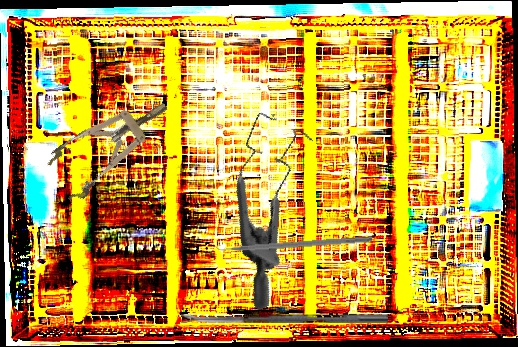Chopper: (208, 227, 373, 254)
Speculum: (179, 97, 370, 312), (40, 83, 183, 206)
Surgical Spoon: (181, 313, 388, 323)
